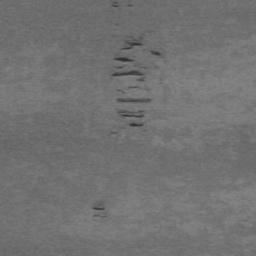Secondary rust skin: (111, 34, 159, 127), (92, 202, 108, 217)
